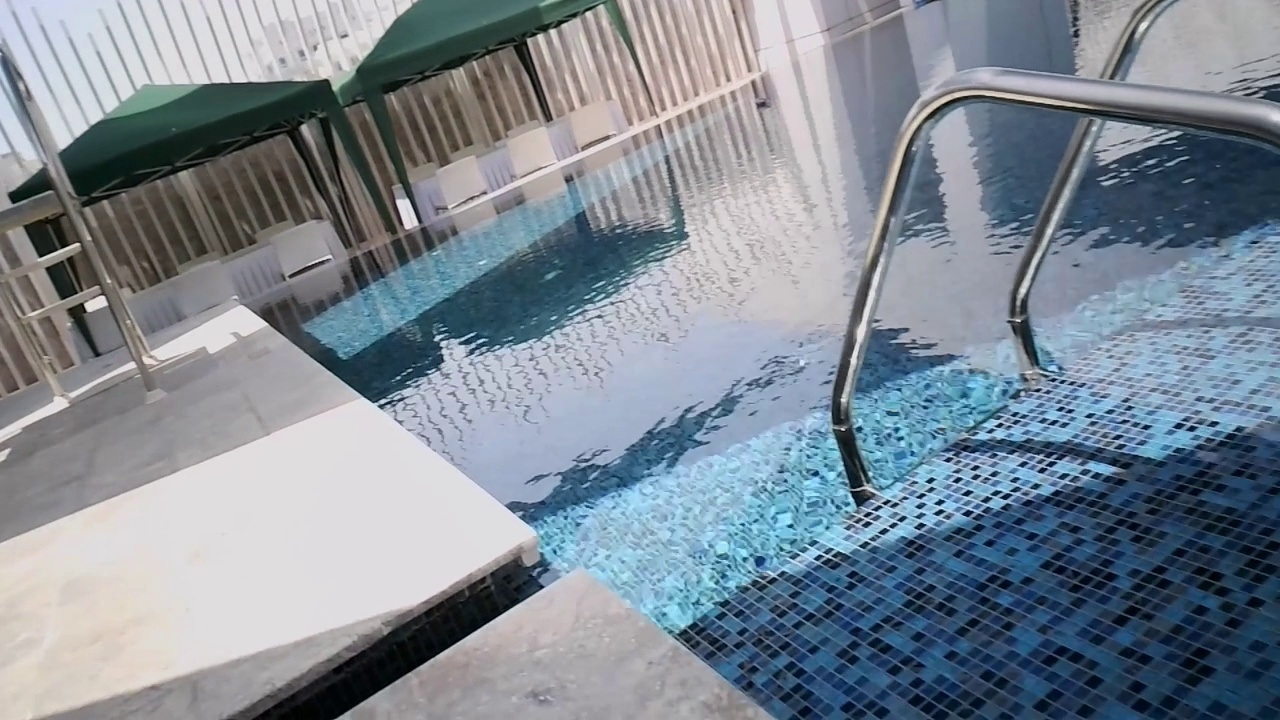debris: (752, 96, 772, 112)
